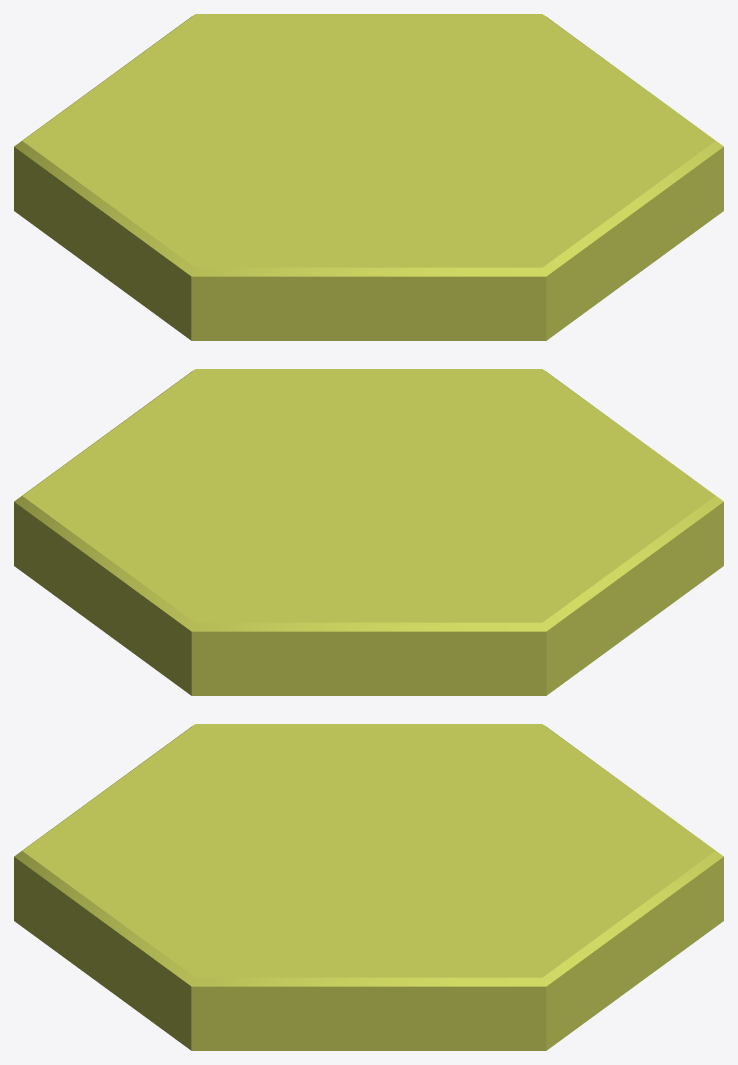
The model's file is sand.fbx.
3 renders of one model, top to bottom at view 1: azimuth 30°, elevation 25°; view 2: azimuth 150°, elevation 25°; view 3: azimuth 270°, elevation 25°, orthographic.
Visible parts, largest first — view 1: Hex; view 2: Hex; view 3: Hex.
Part boxes in pixels (<box>): Hex: <box>14,14,723,340</box>; Hex: <box>14,369,723,695</box>; Hex: <box>14,724,723,1050</box>.
Bounding box in the file's own units: 173 × 21.75 × 200.
